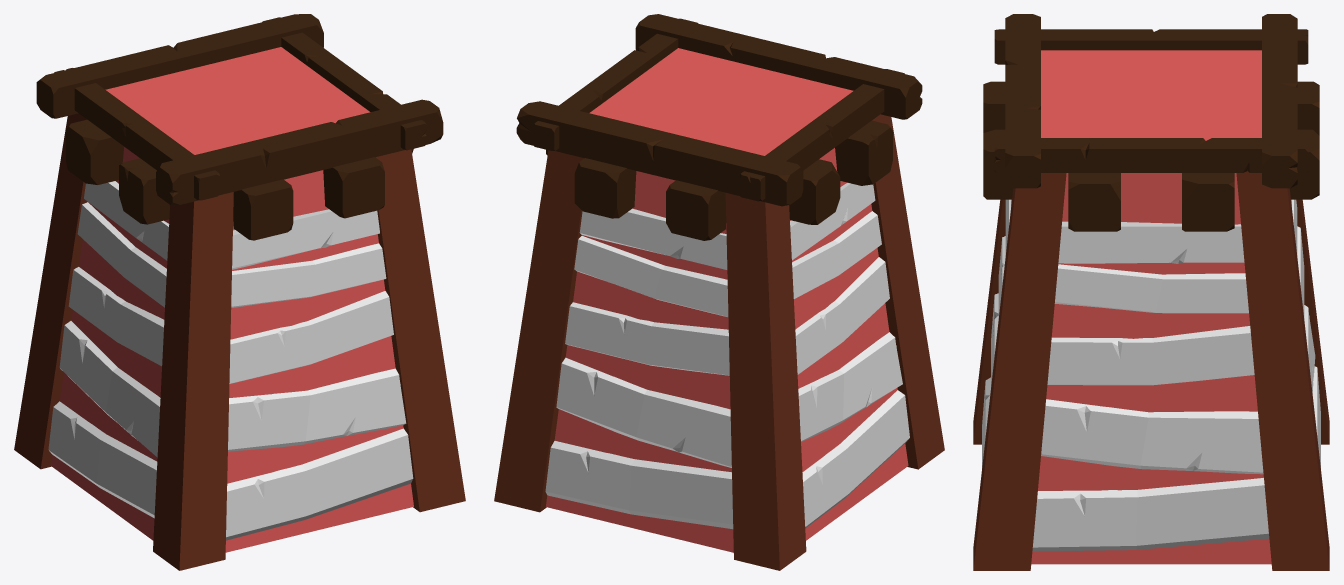
File: SquareWoodenTower.fbx
3 renders of one model, left to right at view 1: azimuth 30°, elevation 25°; view 2: azimuth 150°, elevation 25°; view 3: azimuth 270°, elevation 25°, orthographic. The views are drawn at different scales.
Parts seen in each view (by area): view 1: SquareWoodenBase_LOD0; view 2: SquareWoodenBase_LOD0; view 3: SquareWoodenBase_LOD0.
Boxes of the visible parts, left/top/right/bottom form: SquareWoodenBase_LOD0: left=14, top=14, right=465, bottom=570; SquareWoodenBase_LOD0: left=494, top=14, right=944, bottom=570; SquareWoodenBase_LOD0: left=973, top=14, right=1329, bottom=570.
Size of what is drawn, in the model's own units: 238 by 303 by 238.
